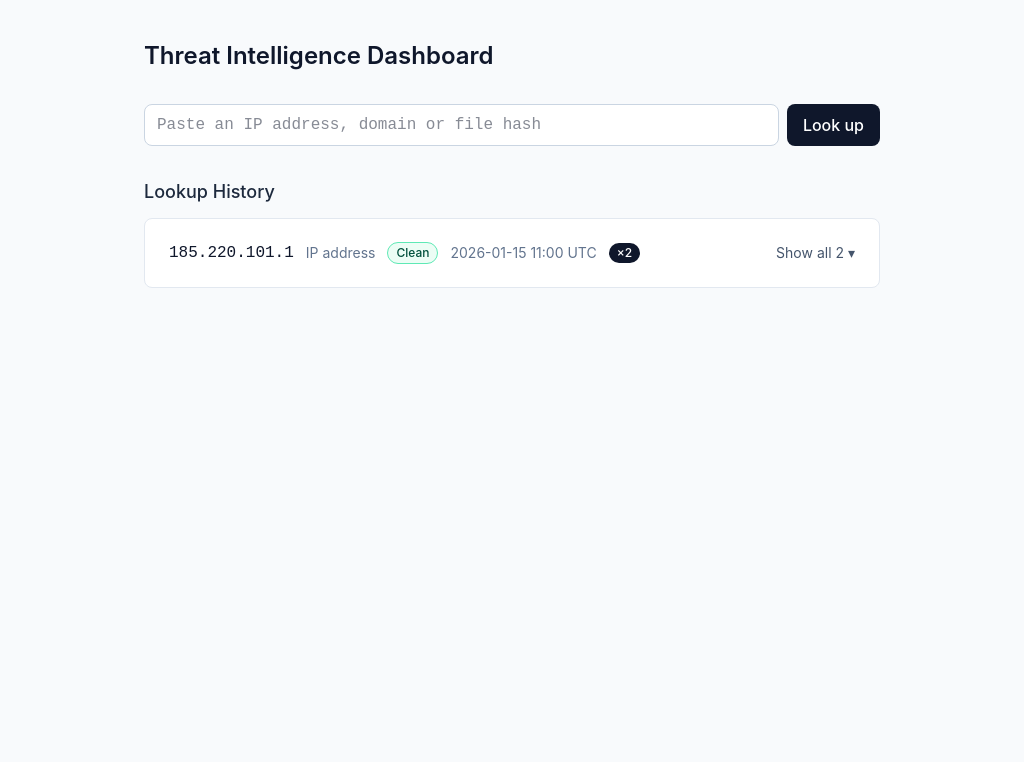
Test: the banner opens the newer Lookup in one click
Click the button with aria-label "Show all 2 Lookups of 185.220.101.1".
click(816, 253)  # box 768,237 -> 863,269
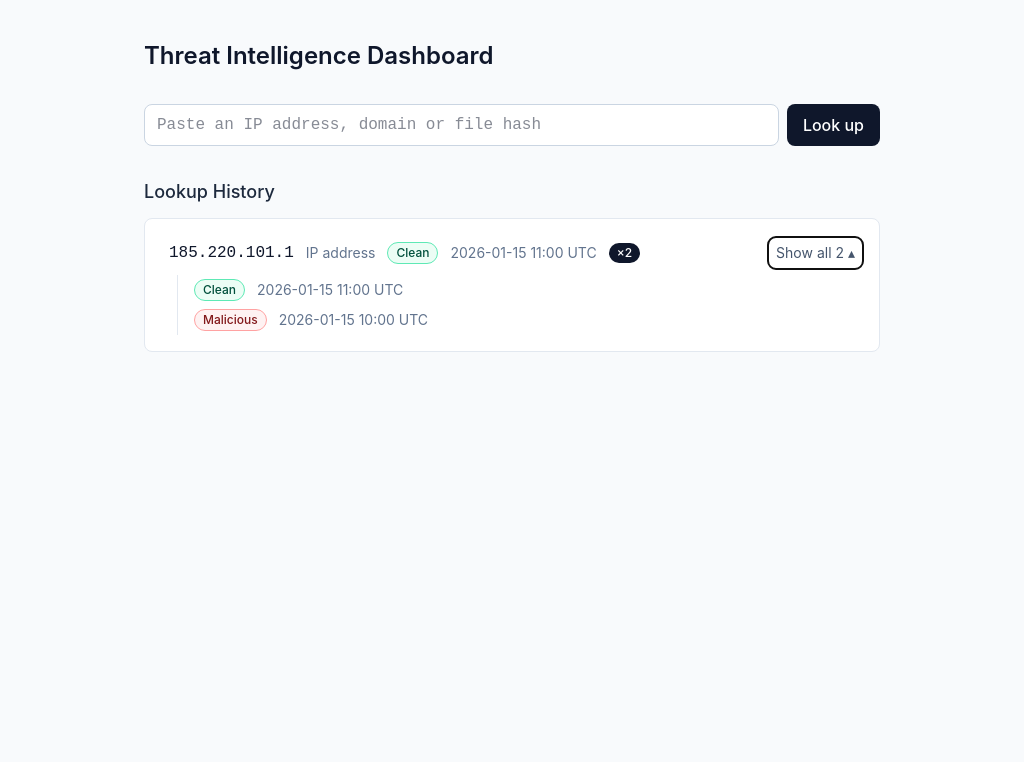
Click the button "Malicious 2026-01-15 10:00 UTC".
click(311, 320)  # box 186,305 -> 436,335
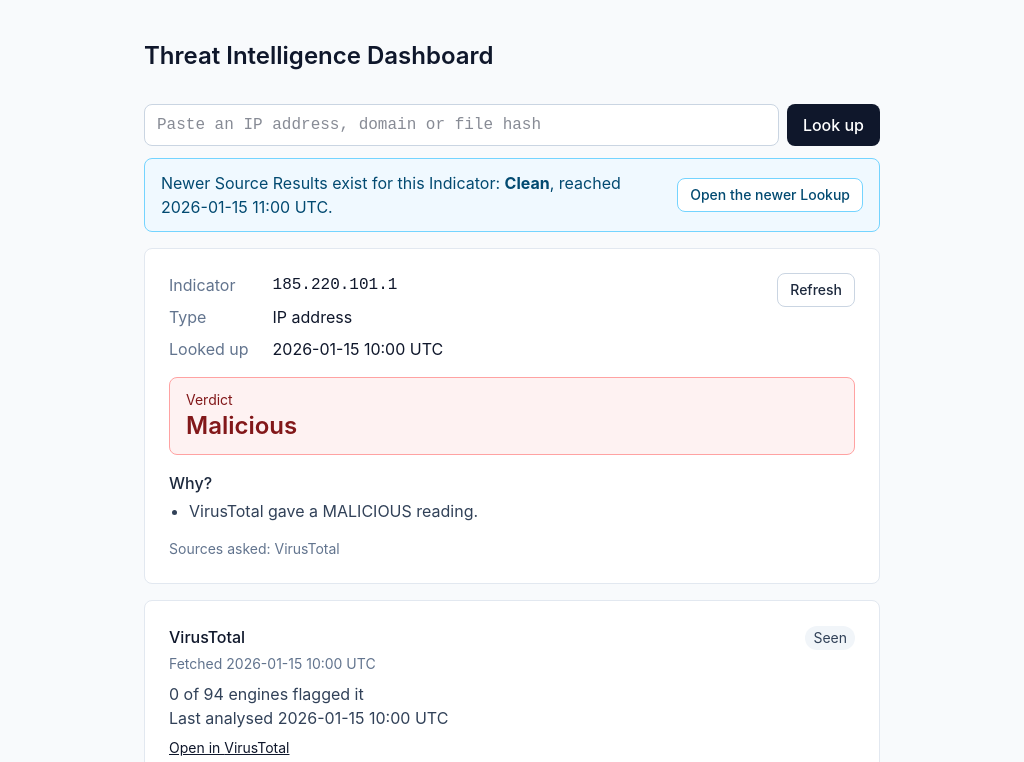
Click the button "Open the newer Lookup".
click(770, 195)  # box 677,178 -> 863,212
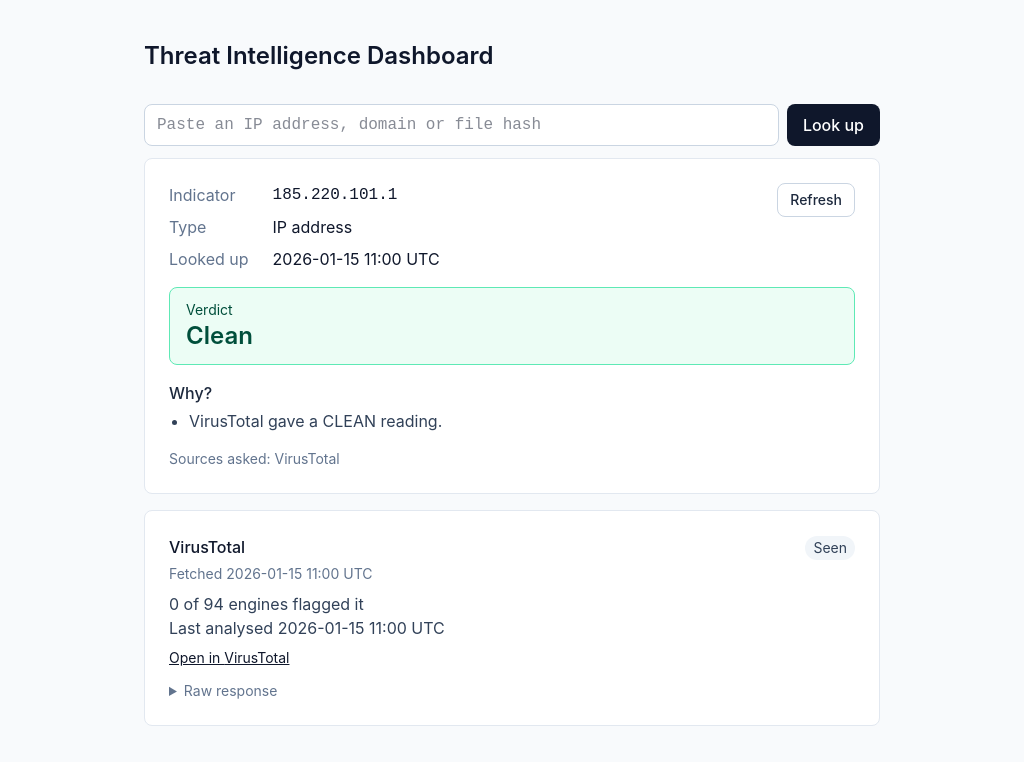
Now the element named "Lookup" shows "Clean", box 186,321 -> 253,350
Now the text "2026-01-15 11:00 UTC" is shown, box 272,247 -> 440,271
Now the element "Newer Source Results" is gone
